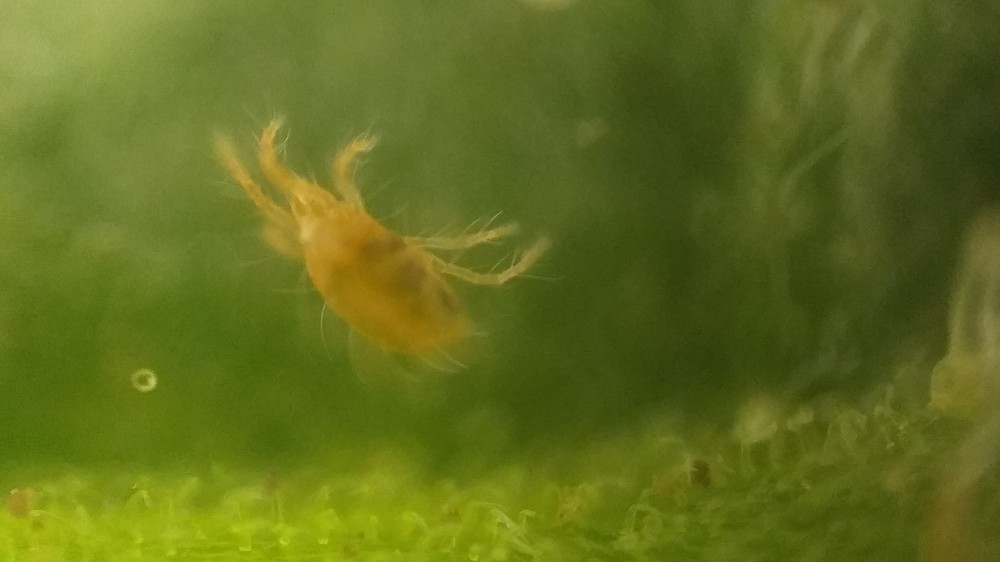Aracnido Rojo: (195, 105, 583, 416)
